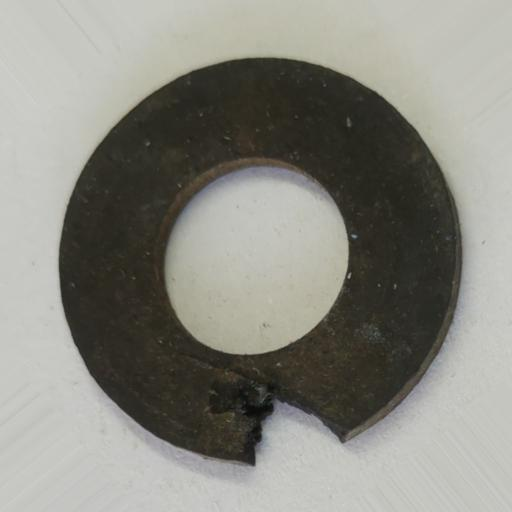defect: (205, 372, 347, 467)
